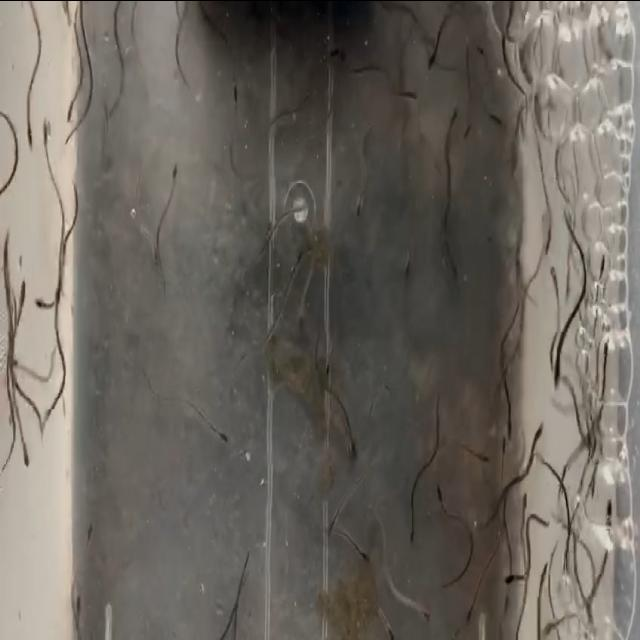active_glass_eel: (210, 407, 236, 458), (594, 327, 616, 378), (484, 96, 509, 139), (340, 418, 364, 462), (422, 35, 446, 79), (498, 555, 520, 603), (51, 268, 71, 320), (351, 182, 369, 238), (600, 474, 616, 537), (536, 216, 554, 268), (405, 80, 424, 126), (432, 460, 449, 510), (474, 434, 494, 476), (288, 180, 306, 226), (62, 85, 82, 126), (16, 269, 34, 313), (294, 292, 310, 340), (418, 582, 434, 630), (164, 153, 184, 191), (441, 93, 461, 131), (550, 358, 570, 396), (501, 405, 516, 455), (290, 238, 308, 278), (592, 244, 610, 284), (0, 232, 20, 266), (20, 436, 34, 484), (32, 278, 48, 320), (531, 402, 547, 444), (398, 255, 416, 292), (150, 232, 164, 278), (516, 474, 532, 514), (407, 514, 422, 556), (540, 606, 558, 638), (324, 506, 339, 544), (548, 258, 563, 296), (42, 107, 54, 153), (21, 125, 39, 152), (537, 554, 553, 584), (385, 606, 399, 640), (461, 604, 476, 632), (358, 524, 366, 574), (536, 453, 552, 477), (322, 354, 333, 380)
